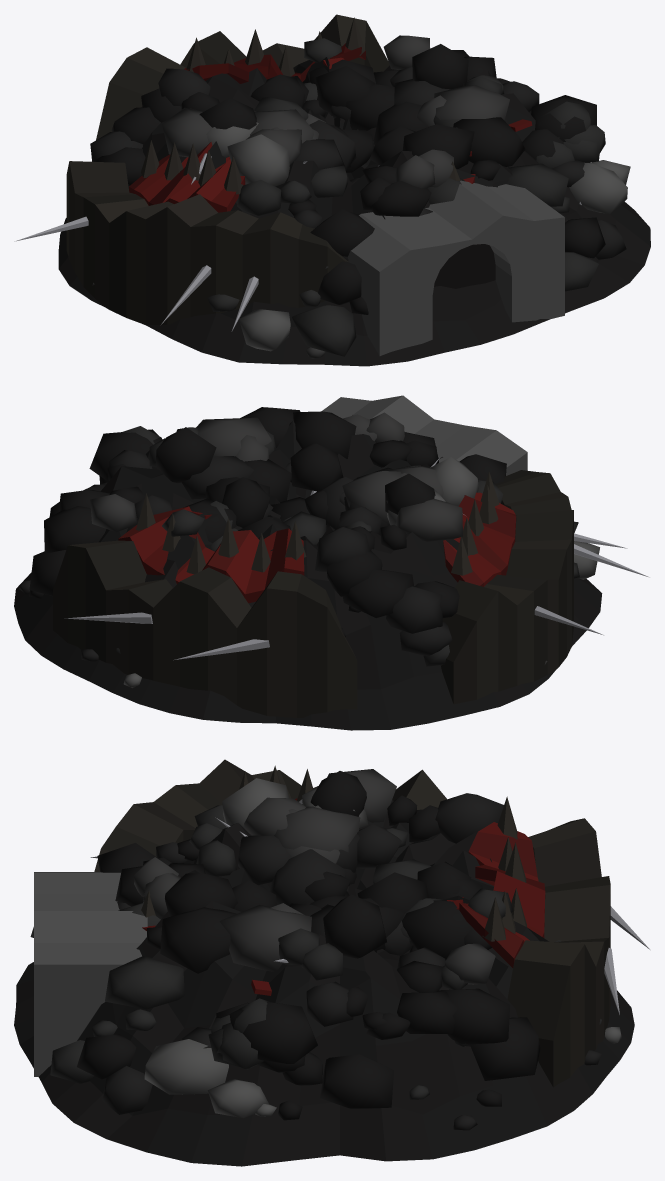
Rendered from TarTower01a.glb.
3 views of the same model, one above another, from view 1: azimuth 30°, elevation 25°; view 2: azimuth 150°, elevation 25°; view 3: azimuth 270°, elevation 25° (orthographic). The views are drawn at different scales.
Visible parts, largest first — view 1: TarTower01a_gate; view 2: TarTower01a_gate; view 3: TarTower01a_gate.
Part boxes in pixels (x1,y1,x2,y2): TarTower01a_gate: [14, 14, 650, 366]; TarTower01a_gate: [14, 395, 649, 730]; TarTower01a_gate: [14, 759, 649, 1166].
Size of the model in its own units: 8.56 by 2.45 by 7.29.
